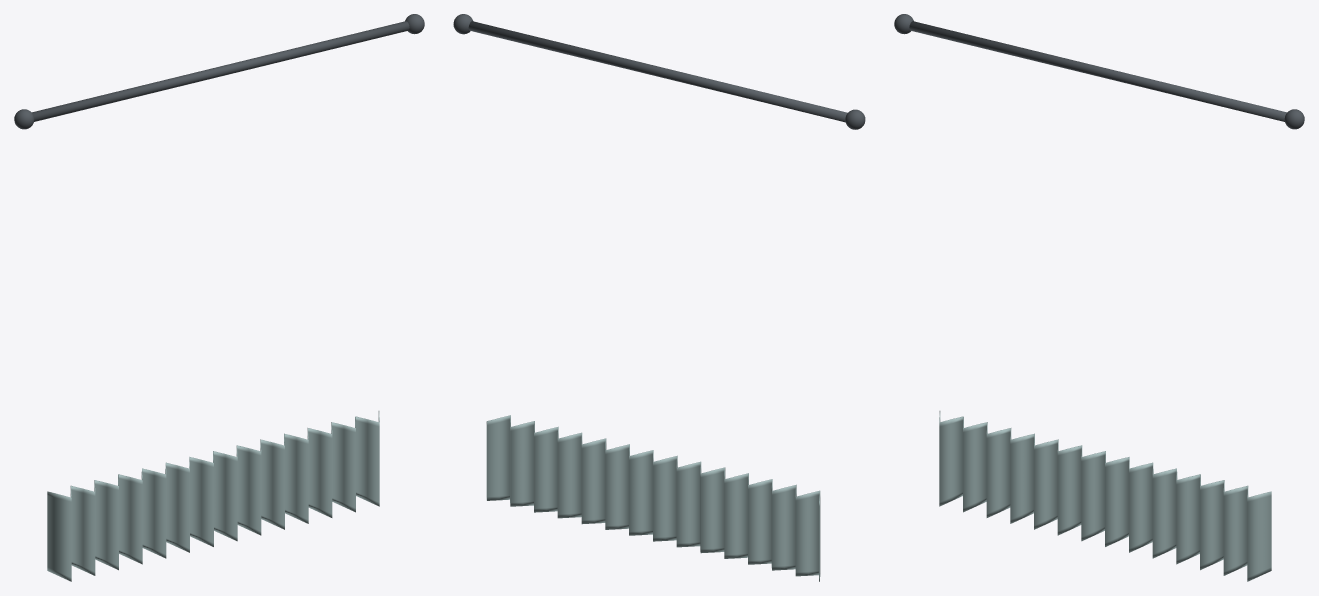
Rendered from atelier-fabric-valance.glb.
3 views of the same model, side by side, from view 1: azimuth 30°, elevation 25°; view 2: azimuth 150°, elevation 25°; view 3: azimuth 330°, elevation 25° (orthographic).
Parts seen in each view (by area): view 1: fabric.056, metal.058; view 2: fabric.056, metal.058; view 3: fabric.056, metal.058.
Part boxes in pixels (x1,y1,x2,y2): fabric.056: [47, 411, 379, 581]; metal.058: [14, 14, 424, 129]; fabric.056: [486, 415, 820, 581]; metal.058: [453, 14, 865, 129]; fabric.056: [939, 411, 1271, 581]; metal.058: [894, 14, 1304, 129].
Size of the model in its own units: 2.09 by 2.34 by 0.113.
